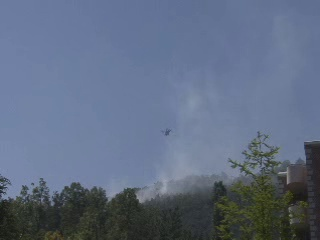smoke: (134, 89, 220, 203)
